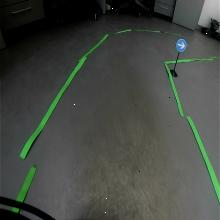right: (176, 38, 187, 52)
